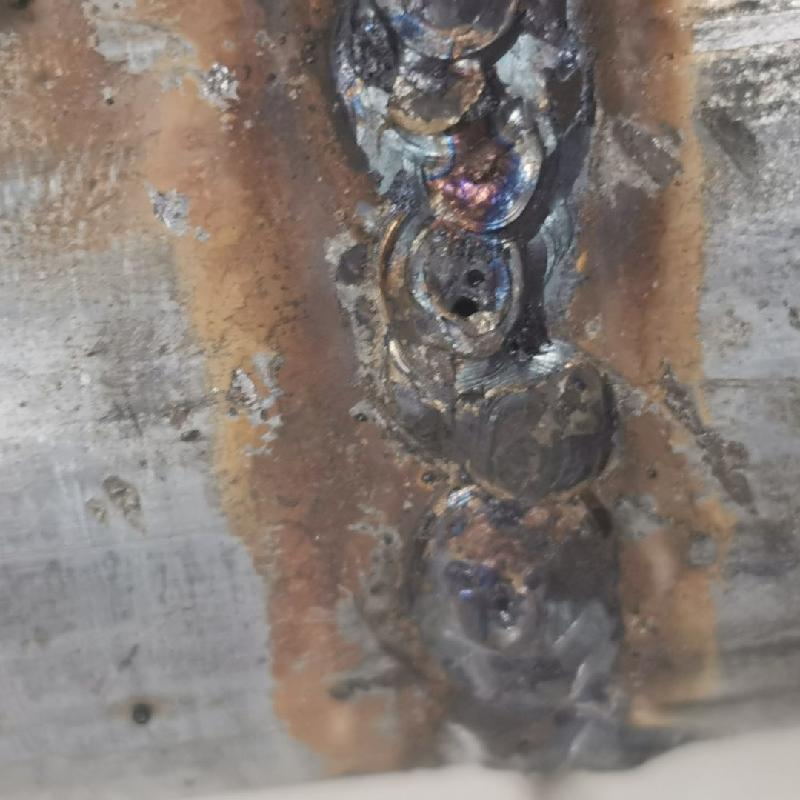Surface_pores: (439, 256, 513, 335)
crater: (333, 0, 571, 366)
wrong_size: (410, 375, 642, 774)
